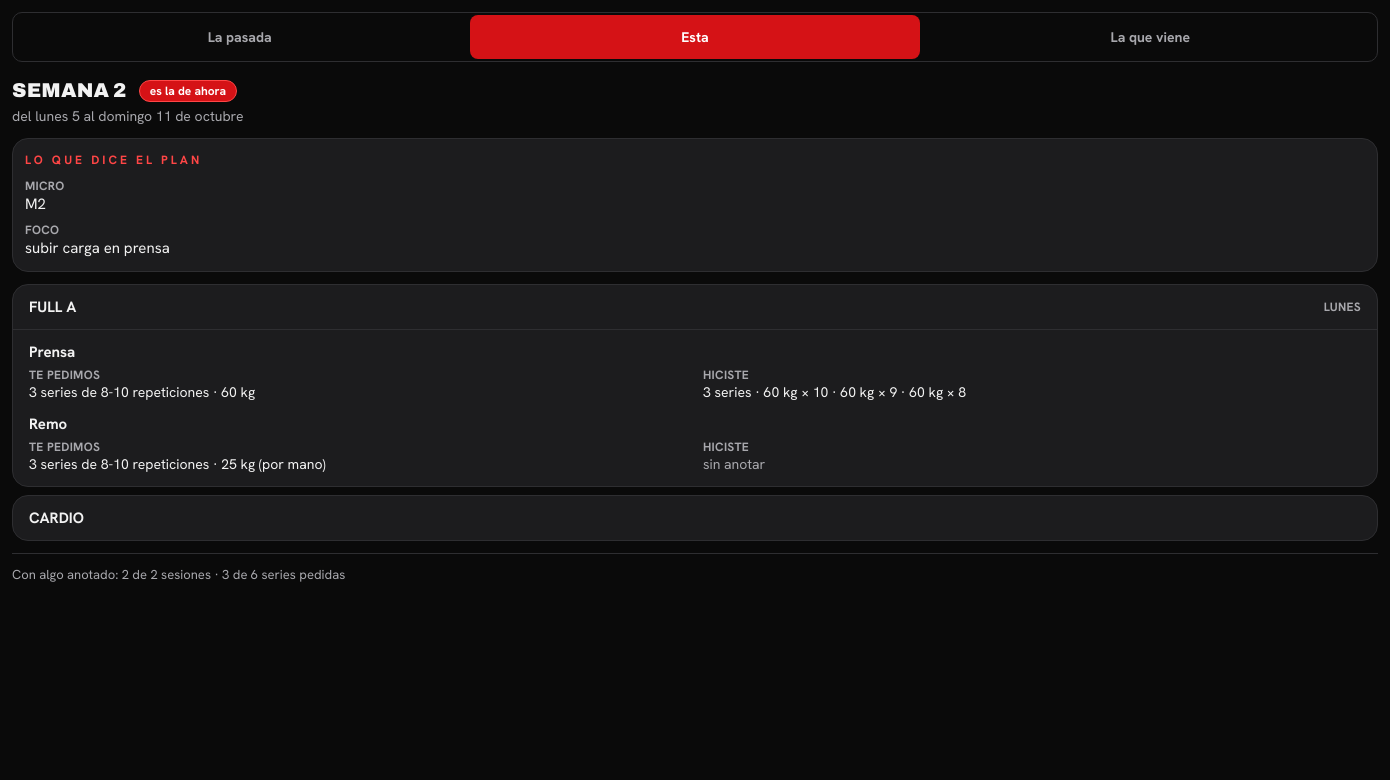
Test: SeccionTresSemanas › si el plan no tiene fila para esa semana, no pinta nada del plan
Click the button "La que viene": (1150, 37) [926, 15, 1375, 59]
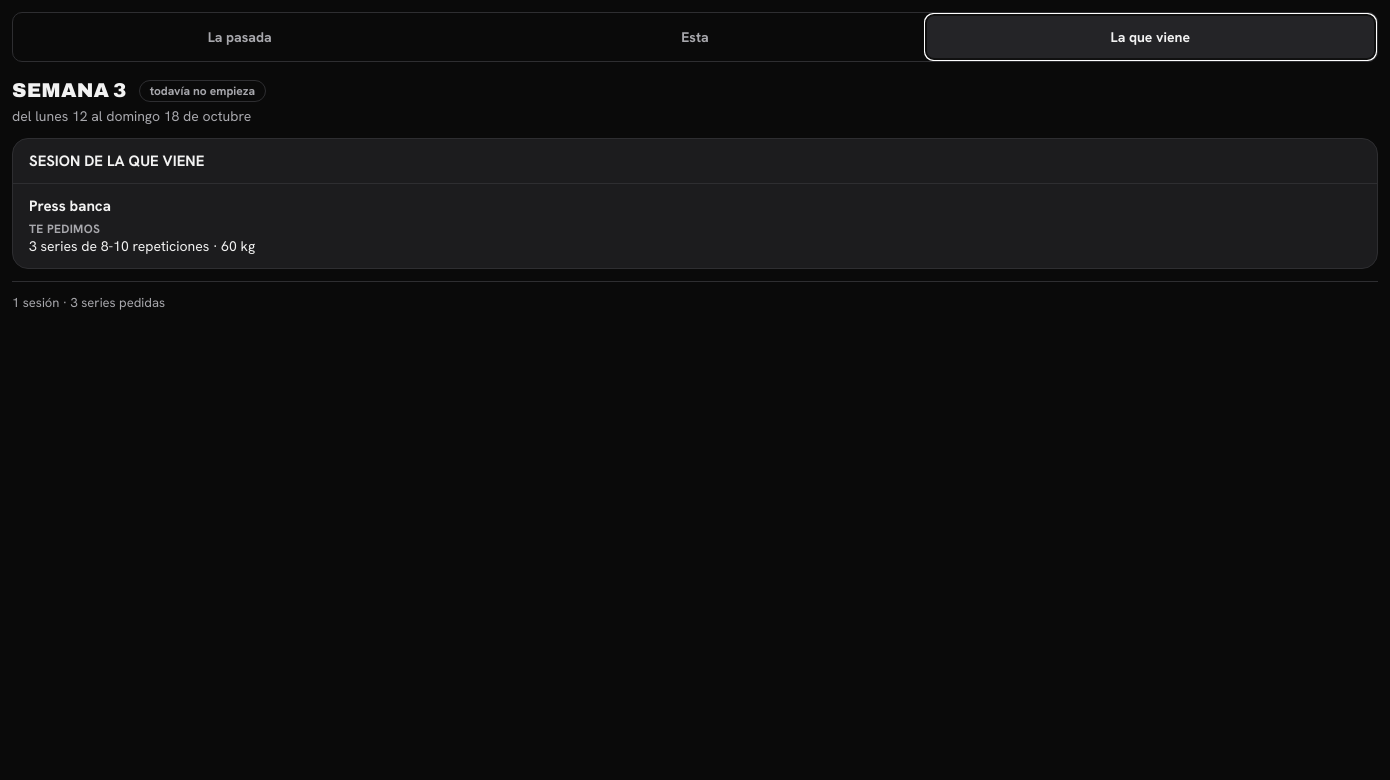
Expected: the text "Lo que dice el plan" is gone
